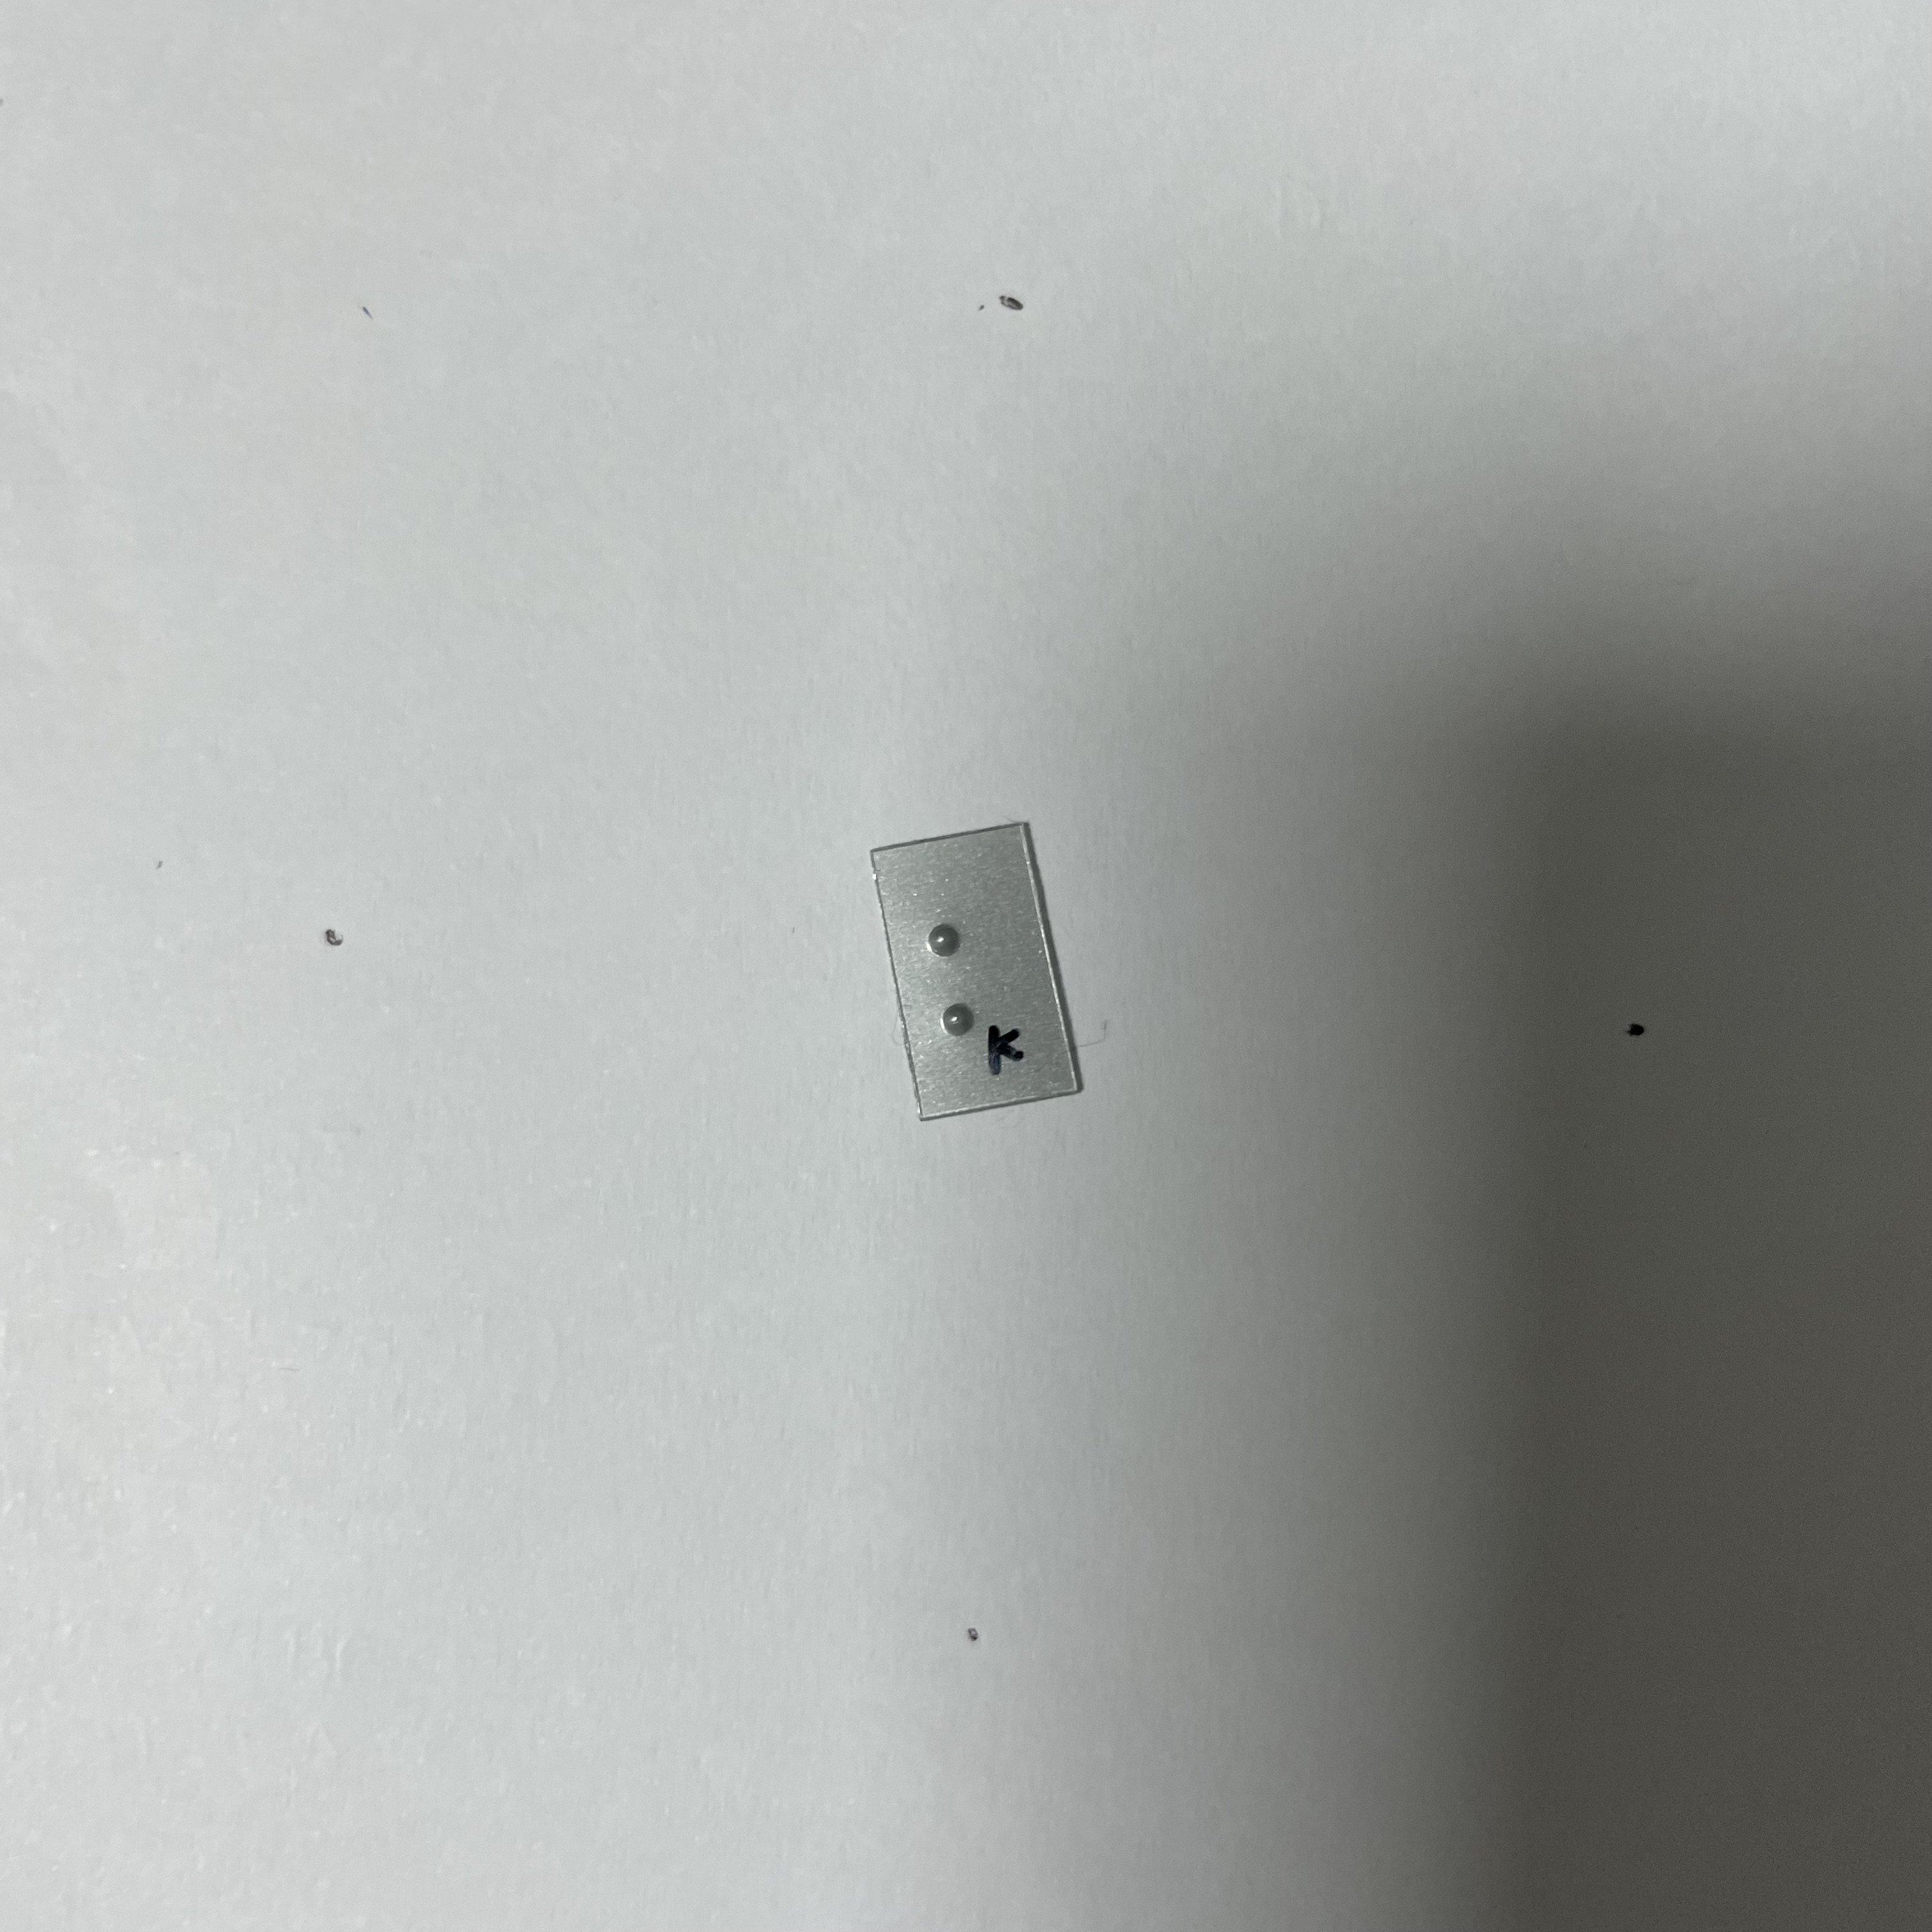k: (923, 909, 1022, 1034)
